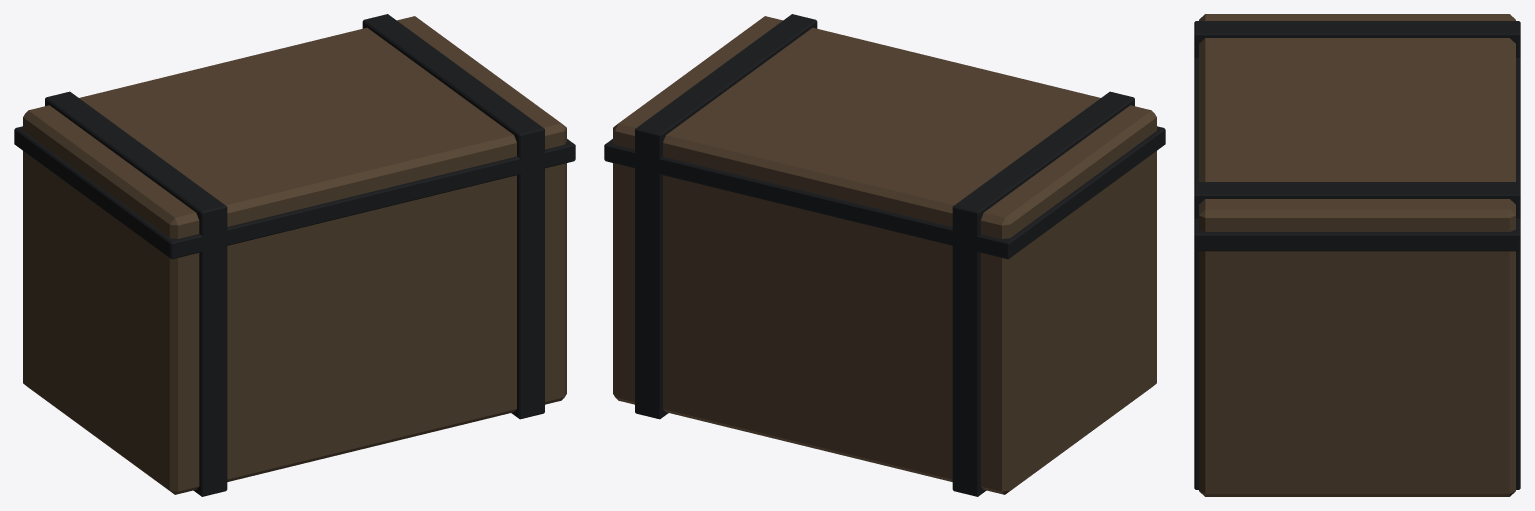
File: SM_Prop_PackageCrate.glb
3 renders of one model, left to right at view 1: azimuth 30°, elevation 25°; view 2: azimuth 150°, elevation 25°; view 3: azimuth 270°, elevation 25°, orthographic. The views are drawn at different scales.
Parts seen in each view (by area): view 1: SM_Prop_PackageCrate_Mesh; view 2: SM_Prop_PackageCrate_Mesh; view 3: SM_Prop_PackageCrate_Mesh.
Part boxes in pixels (x1,y1,x2,y2): SM_Prop_PackageCrate_Mesh: (14,14,575,496); SM_Prop_PackageCrate_Mesh: (604,14,1165,496); SM_Prop_PackageCrate_Mesh: (1194,14,1520,496).
Size of what is drawn, in the model's own units: 0.612 by 0.412 by 0.412.
Materials: 2 (2 with a texture image).
